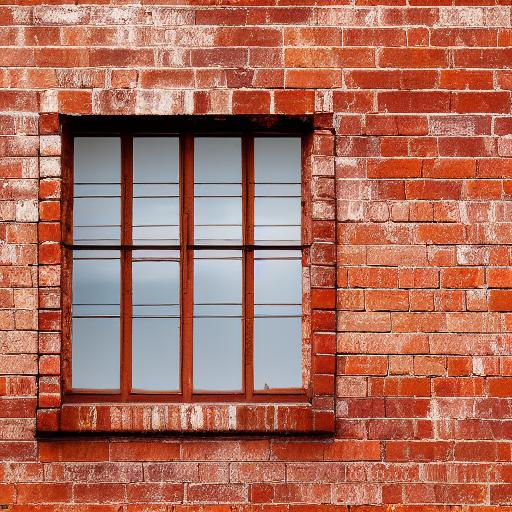Window: (34, 91, 338, 437)
